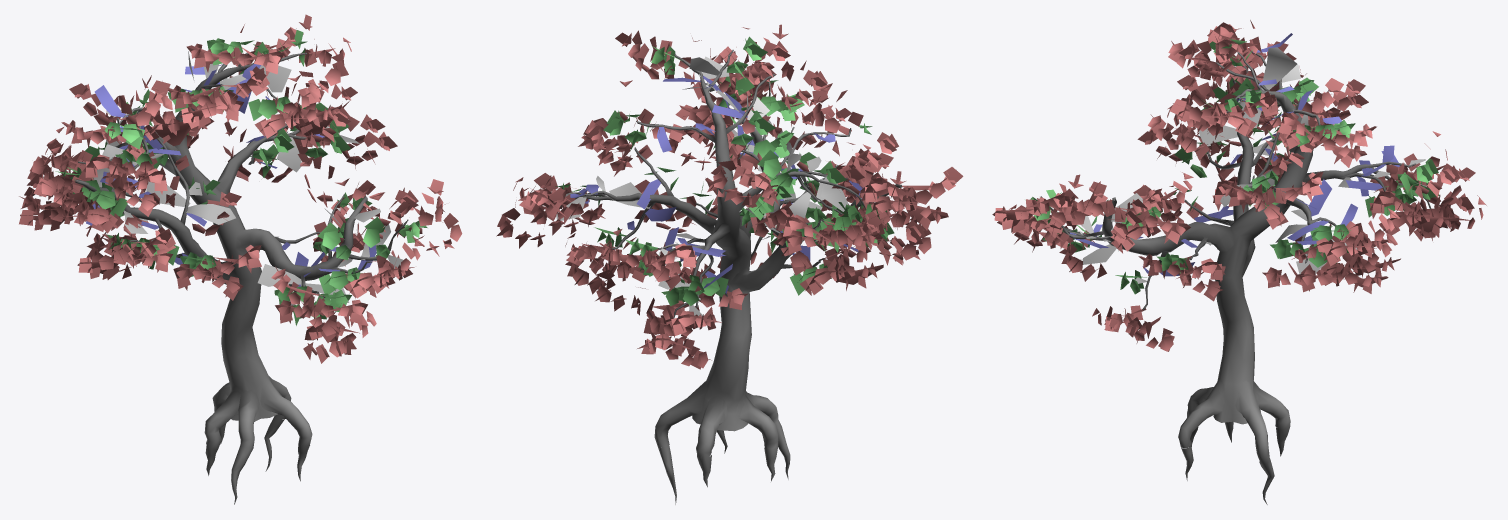
File: SM_tree_pine_A.gltf
3 renders of one model, left to right at view 1: azimuth 30°, elevation 25°; view 2: azimuth 150°, elevation 25°; view 3: azimuth 270°, elevation 25°, orthographic. The views are drawn at different scales.
Visible parts, largest first — view 1: SM_tree_pine_A; view 2: SM_tree_pine_A; view 3: SM_tree_pine_A.
Part boxes in pixels (box(x1,y1,x2,y2)): SM_tree_pine_A: box(19, 14, 462, 504); SM_tree_pine_A: box(496, 24, 963, 504); SM_tree_pine_A: box(992, 20, 1486, 504).
Bounding box in the file's own units: 8.58 × 9.61 × 9.74.
